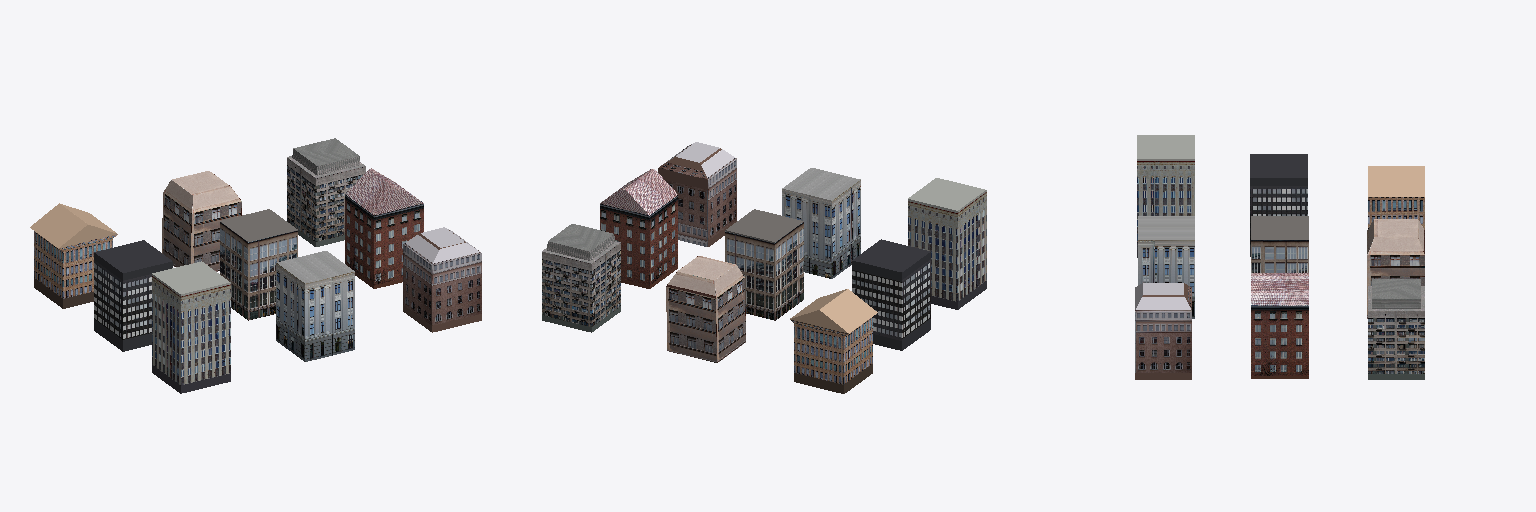
3 renders of one model, left to right at view 1: azimuth 30°, elevation 25°; view 2: azimuth 150°, elevation 25°; view 3: azimuth 270°, elevation 25°, orthographic.
Parts seen in each view (by area): view 1: pCube5, pCube3, pCube4, pCube2, pCube10, pCube6, pCube7, pCube11, pCube8; view 2: pCube5, pCube10, pCube8, pCube11, pCube2, pCube7, pCube6, pCube3, pCube4; view 3: pCube2, pCube10, pCube4, pCube5, pCube3, pCube7, pCube8, pCube6, pCube11.
Boxes of the visible parts, x1,y1,x2,y2 form: pCube5: [152, 261, 230, 393]; pCube3: [276, 251, 354, 361]; pCube4: [403, 227, 481, 332]; pCube2: [345, 168, 423, 288]; pCube10: [287, 138, 365, 246]; pCube6: [220, 209, 297, 320]; pCube7: [94, 240, 172, 351]; pCube11: [30, 203, 117, 308]; pCube8: [162, 171, 241, 271]; pCube5: [908, 178, 986, 309]; pCube10: [542, 224, 620, 332]; pCube8: [666, 256, 745, 362]; pCube11: [790, 289, 877, 393]; pCube2: [600, 169, 677, 288]; pCube7: [852, 239, 930, 350]; pCube6: [725, 209, 803, 320]; pCube3: [782, 168, 860, 278]; pCube4: [658, 142, 736, 246]; pCube2: [1251, 273, 1308, 378]; pCube10: [1368, 279, 1424, 379]; pCube4: [1135, 283, 1191, 379]; pCube5: [1137, 135, 1194, 257]; pCube3: [1138, 216, 1194, 318]; pCube7: [1250, 154, 1307, 256]; pCube8: [1367, 219, 1424, 318]; pCube6: [1251, 216, 1308, 272]; pCube11: [1368, 166, 1424, 229].
Size of the model in its own units: 12.31 by 3.8 by 10.08.
Materials: 11 (9 with a texture image).